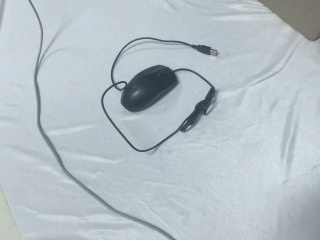box: (254, 1, 320, 42)
mouse: (120, 62, 181, 114)
